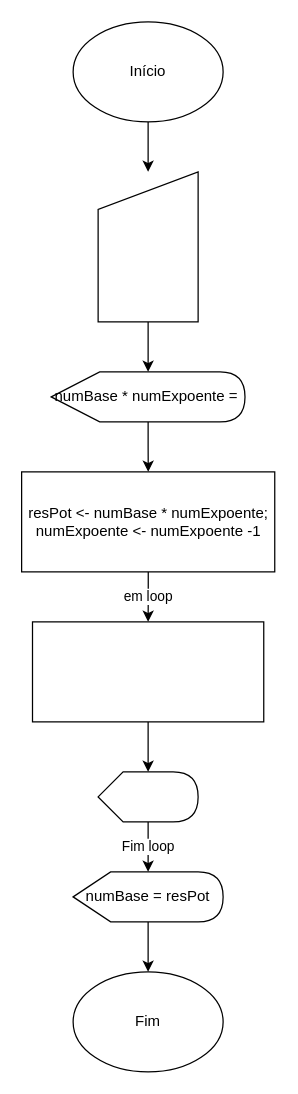
This 298x1094 diagram has some shape labels left out. The shapes that lost their labels are listed below. From the top down, each one's centre as x and y in pixels, then its label:
(147,246): números da Potenciação (numBase e numExpoente)
(147,671): numExpoente <- numExpoente -1
(147,796): numBase +
